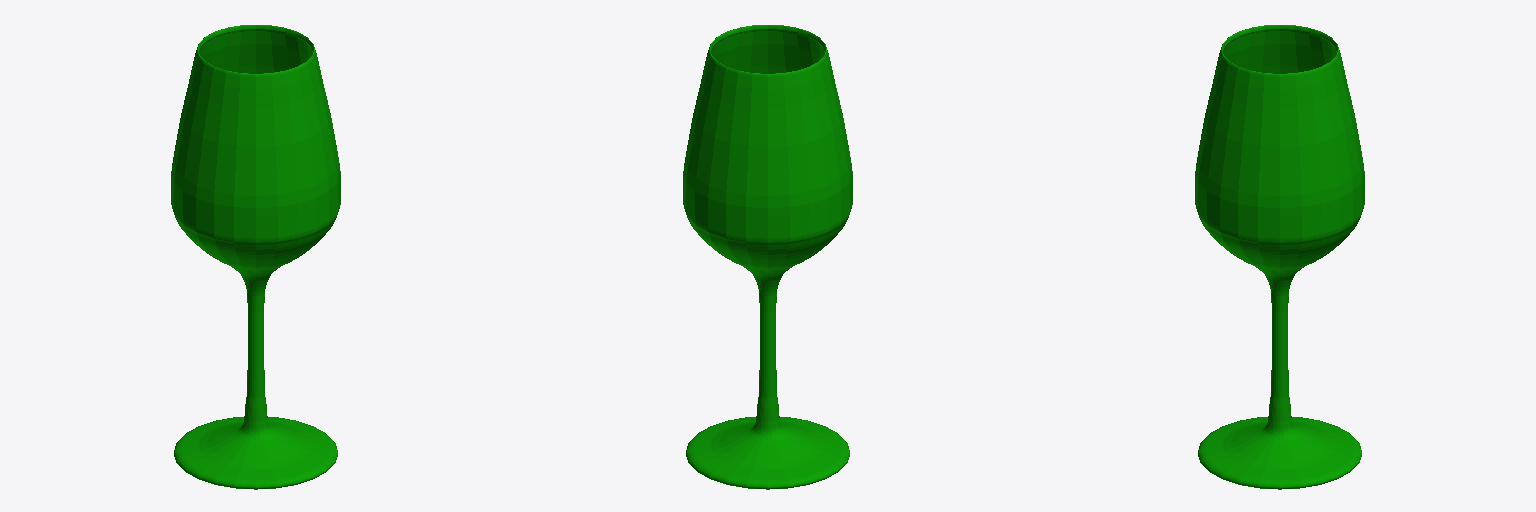
Rendered from copaVerde.obj.
3 renders of one model, left to right at view 1: azimuth 30°, elevation 25°; view 2: azimuth 150°, elevation 25°; view 3: azimuth 270°, elevation 25°, orthographic.
Parts seen in each view (by area): view 1: Lathe_NURBS2; view 2: Lathe_NURBS2; view 3: Lathe_NURBS2.
Boxes of the visible parts, <box> form: Lathe_NURBS2: <box>171,25,340,489</box>; Lathe_NURBS2: <box>683,25,852,489</box>; Lathe_NURBS2: <box>1195,25,1364,489</box>.
Bounding box in the file's own units: 0.3419 × 0.9202 × 0.3419.